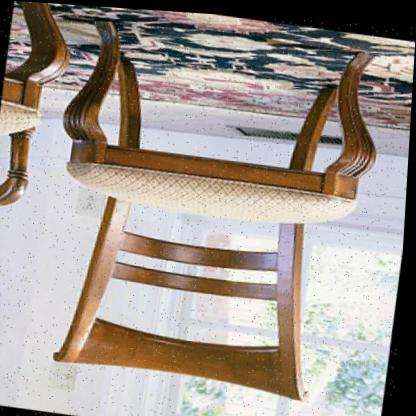Chair: (20, 2, 406, 414)
